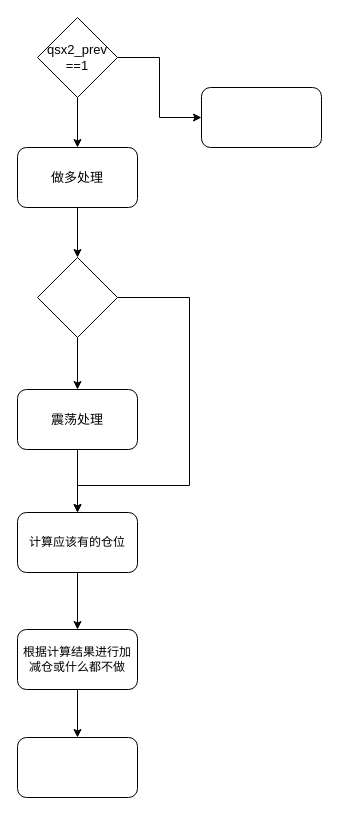
This 339x815 diagram has some shape labels left out. Here are the shapes that lost their labels. From the top down, the centre of each, then its label:
At point (77, 297): "dnl2_prev ==1".
At point (77, 767): "将来不及做的加减仓动作记入下一天".
